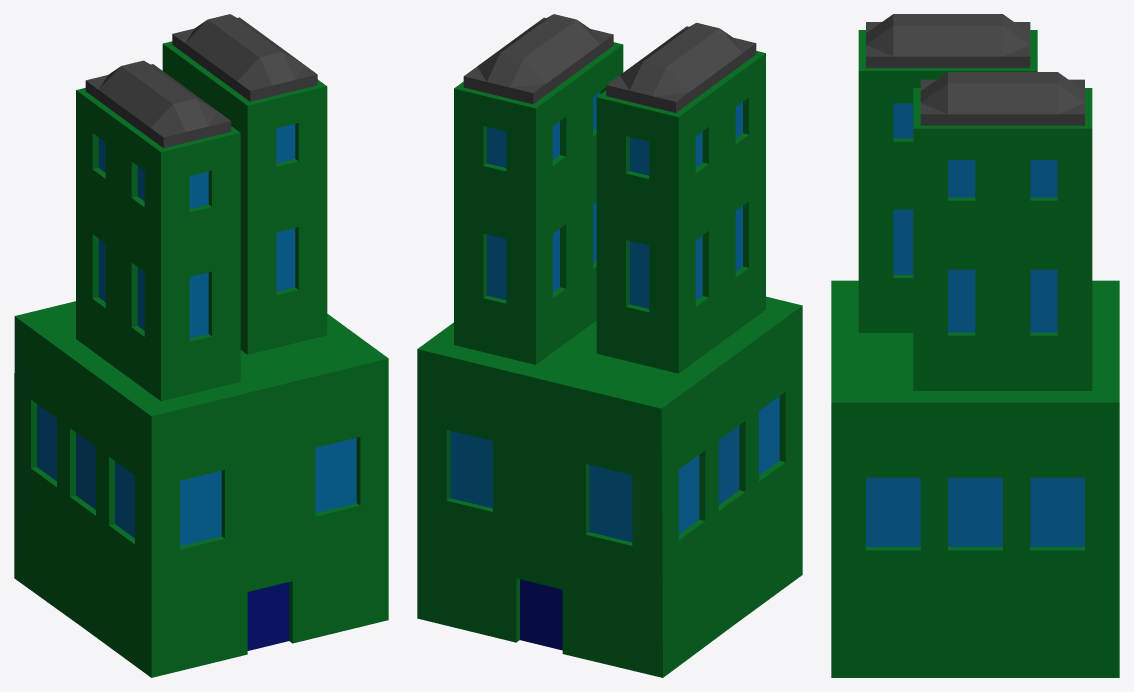
File: House_3.fbx
3 renders of one model, left to right at view 1: azimuth 30°, elevation 25°; view 2: azimuth 150°, elevation 25°; view 3: azimuth 270°, elevation 25°, orthographic. The views are drawn at different scales.
Visible parts, largest first — view 1: House_3; view 2: House_3; view 3: House_3.
Part boxes in pixels (<box>): House_3: <box>14,14,388,677</box>; House_3: <box>417,14,802,677</box>; House_3: <box>831,14,1119,677</box>.
Bounding box in the file's own units: 0.3171 × 0.6872 × 0.316.
